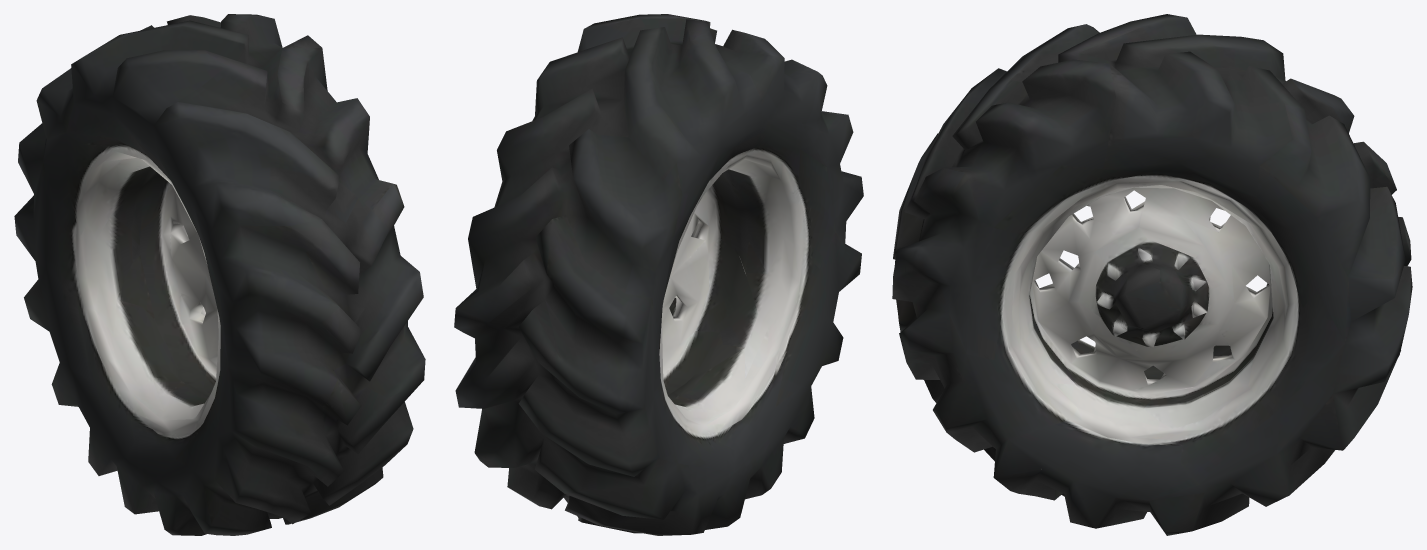
File: buyuk-traktor-teker-on.glb
3 views of the same model, side by side, from view 1: azimuth 30°, elevation 25°; view 2: azimuth 150°, elevation 25°; view 3: azimuth 270°, elevation 25° (orthographic).
Visible parts, largest first — view 1: tripo_node_a26b6b30-cbc1-46bb-be59-f3b07f372089; view 2: tripo_node_a26b6b30-cbc1-46bb-be59-f3b07f372089; view 3: tripo_node_a26b6b30-cbc1-46bb-be59-f3b07f372089.
Boxes of the visible parts, x1,y1,x2,y2 form: tripo_node_a26b6b30-cbc1-46bb-be59-f3b07f372089: (14, 14, 425, 535); tripo_node_a26b6b30-cbc1-46bb-be59-f3b07f372089: (454, 14, 863, 535); tripo_node_a26b6b30-cbc1-46bb-be59-f3b07f372089: (892, 14, 1412, 535).
Bounding box in the file's own units: 0.3692 × 0.9795 × 0.9813.
1 material, 1 textured.
